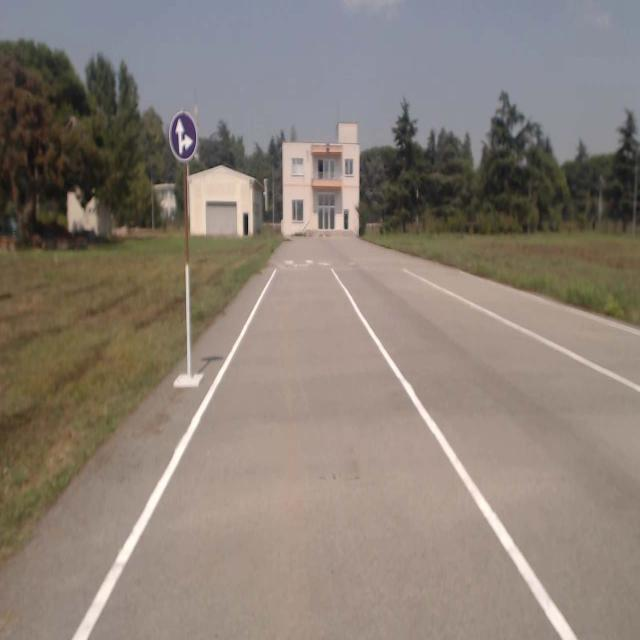ilerisag: (169, 112, 197, 159)
